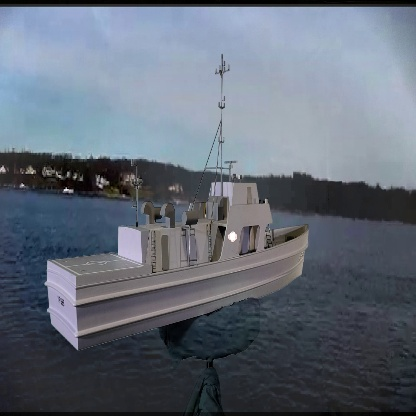YP689: (45, 53, 309, 353)
